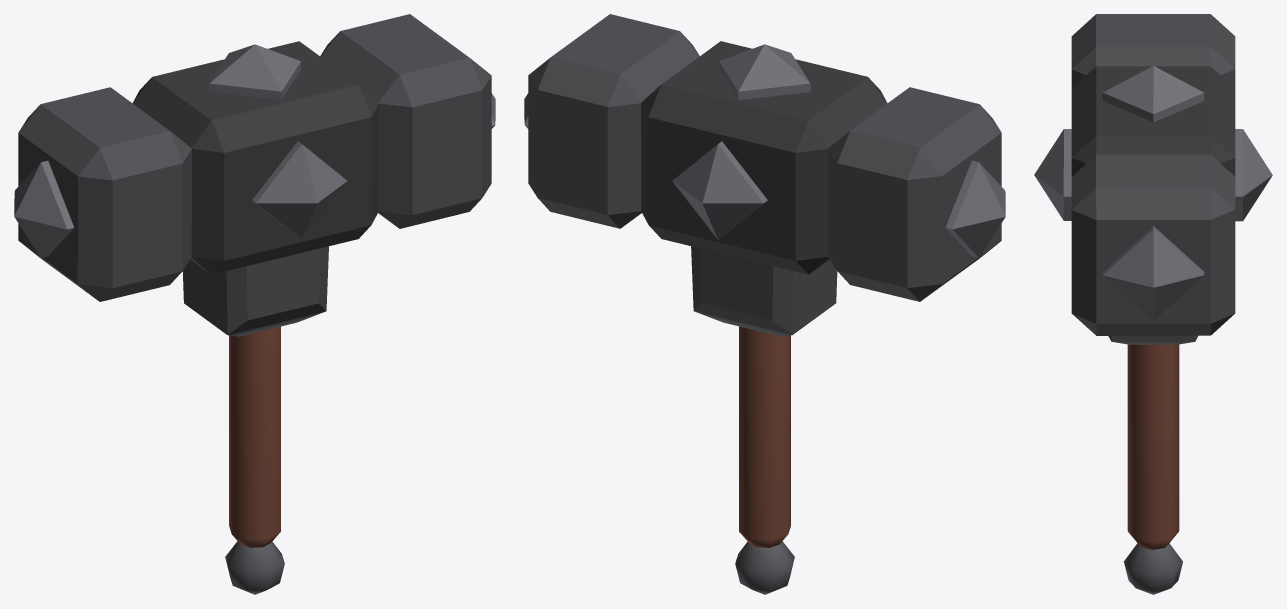
File: Hammer_RHand_3.fbx
3 renders of one model, left to right at view 1: azimuth 30°, elevation 25°; view 2: azimuth 150°, elevation 25°; view 3: azimuth 270°, elevation 25°, orthographic. The views are drawn at different scales.
Parts seen in each view (by area): view 1: Hammer_RHand_3; view 2: Hammer_RHand_3; view 3: Hammer_RHand_3.
Boxes of the visible parts, x1,y1,x2,y2 form: Hammer_RHand_3: (14, 14, 495, 594); Hammer_RHand_3: (524, 14, 1005, 594); Hammer_RHand_3: (1034, 14, 1272, 594).
Size of the model in its own units: 46.78 by 51.11 by 20.89.
